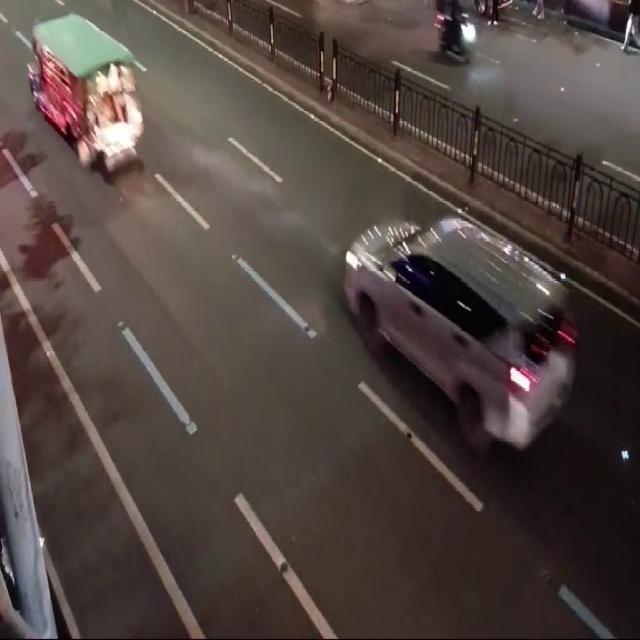car: (301, 189, 586, 494)
jeepney: (22, 0, 155, 179)
